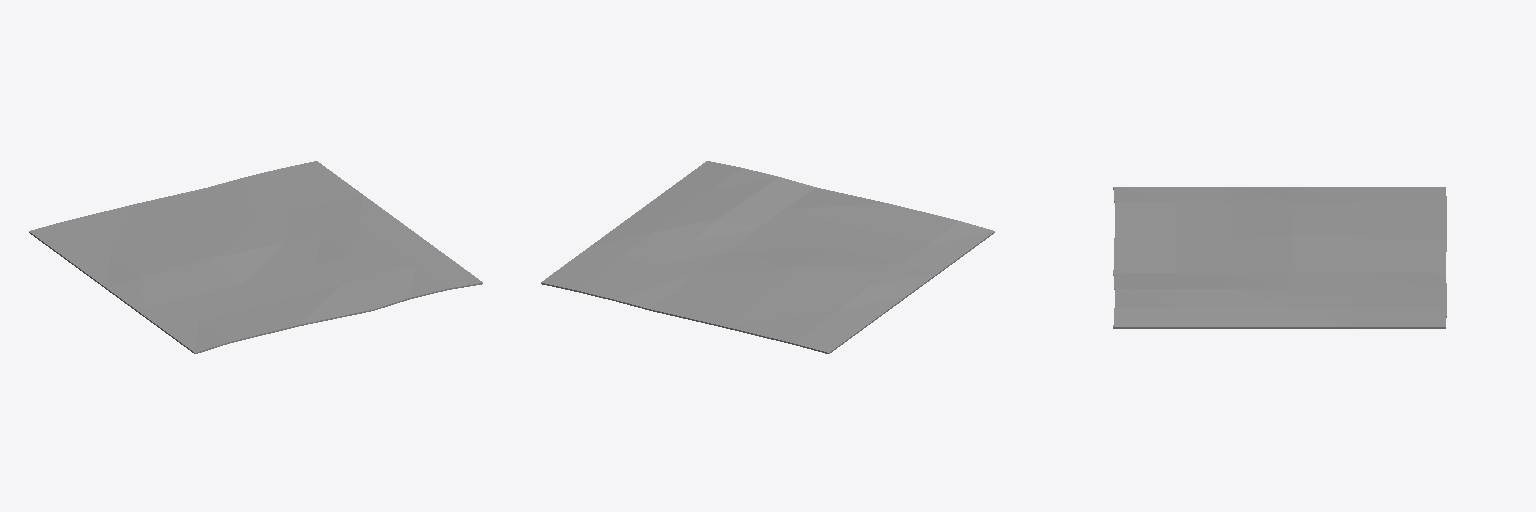
File: ground.obj
The picture shows the model from 3 angles: view 1: azimuth 30°, elevation 25°; view 2: azimuth 150°, elevation 25°; view 3: azimuth 270°, elevation 25°; orthographic projection.
Parts seen in each view (by area): view 1: Plane_Plane.006; view 2: Plane_Plane.006; view 3: Plane_Plane.006.
Part boxes in pixels (x1,y1,x2,y2): Plane_Plane.006: (29,161,482,353); Plane_Plane.006: (541,161,994,353); Plane_Plane.006: (1113,187,1446,328).
Size of the model in its own units: 16.02 by 0.2547 by 16.03.